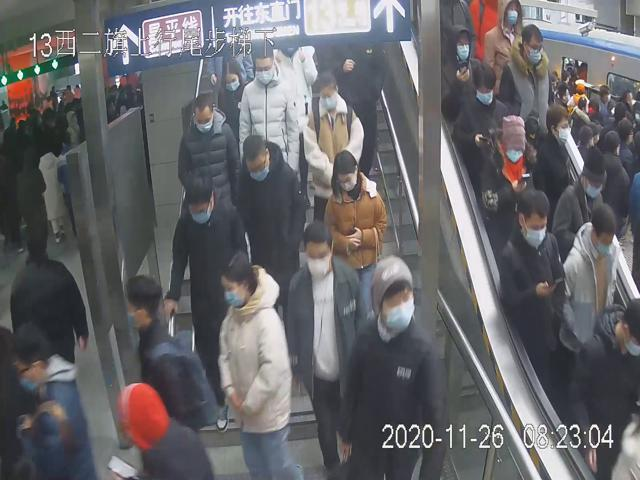person: (339, 254, 447, 480), (161, 167, 251, 432), (285, 218, 365, 469), (215, 250, 300, 478), (232, 134, 310, 304), (497, 188, 566, 373), (302, 68, 365, 227), (238, 47, 300, 190), (321, 149, 389, 276), (175, 92, 238, 225), (499, 23, 553, 141), (211, 52, 252, 134)
